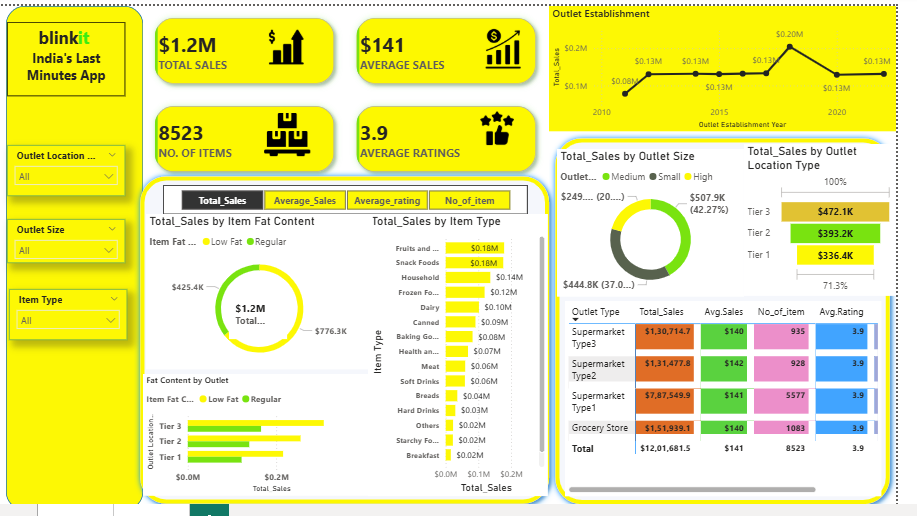

What the dashboard file says about the page in this screenshot:
{"tool":"powerbi","page":{"name":"Page 1","canvas":[1280,720],"ordinal":0},"visuals":[{"type":"shape","box":[8.3,0,195.9,720.5],"z":0},{"type":"textbox","box":[10.2,22.4,169.4,106.1],"z":1000},{"type":"cardVisual","fields":{"Data":["BlinkIT Grocery Data.Total_Sales","BlinkIT Grocery Data.Average_Sales","BlinkIT Grocery Data.No_of_item","BlinkIT Grocery Data.Average_rating"]},"box":[204.1,0,579.6,255.1],"z":2000},{"type":"shape","box":[191.8,234.7,602,485.7],"z":3000},{"type":"slicer","fields":{"Values":["Metrics.Metrics"]},"box":[232.4,255.7,521.3,41.5],"z":4000},{"type":"cardVisual","fields":{"Data":["BlinkIT Grocery Data.Total_Sales"]},"box":[314.3,420.4,114.3,57.1],"z":5000},{"type":"clusteredBarChart","title":"Fat Content by Outlet","fields":{"Y":["BlinkIT Grocery Data.Total_Sales"],"Series":["BlinkIT Grocery Data.Item Fat Content"],"Category":["BlinkIT Grocery Data.Outlet Location Type"]},"box":[204.2,526.3,327.1,174.3],"z":6000},{"type":"barChart","fields":{"Y":["BlinkIT Grocery Data.Total_Sales"],"Category":["BlinkIT Grocery Data.Item Type"]},"box":[526.3,297.2,257.3,403.4],"z":7000},{"type":"shape","box":[783.7,179.6,495.9,540.8],"z":8000},{"type":"lineChart","title":" Outlet Establishment ","fields":{"Category":["BlinkIT Grocery Data.Outlet Establishment Year"],"Y":["BlinkIT Grocery Data.Total_Sales"]},"box":[783.6,0,496.4,179.3],"z":9000},{"type":"donutChart","fields":{"Y":["BlinkIT Grocery Data.Total_Sales"],"Category":["BlinkIT Grocery Data.Item Fat Content"]},"box":[209.2,297.2,323.7,222.5],"z":10000},{"type":"donutChart","fields":{"Category":["BlinkIT Grocery Data.Outlet Size"],"Y":["BlinkIT Grocery Data.Total_Sales"]},"box":[795.2,204.2,267.3,210.8],"z":11000},{"type":"funnel","fields":{"Y":["BlinkIT Grocery Data.Total_Sales"],"Category":["BlinkIT Grocery Data.Outlet Location Type"]},"box":[1062.5,197.6,217.5,217.5],"z":12000},{"type":"pivotTable","fields":{"Values":["BlinkIT Grocery Data.Total_Sales","BlinkIT Grocery Data.Average_Sales","BlinkIT Grocery Data.No_of_item","BlinkIT Grocery Data.Average_rating","Sum(BlinkIT Grocery Data.Item Visibility)"],"Rows":["BlinkIT Grocery Data.Outlet Type"]},"box":[806.8,421.7,451.6,278.9],"z":13000},{"type":"slicer","fields":{"Values":["BlinkIT Grocery Data.Outlet Location Type"]},"box":[10.2,198,169.4,73.5],"z":14000},{"type":"slicer","fields":{"Values":["BlinkIT Grocery Data.Outlet Size"]},"box":[10.2,304.1,169.4,63.3],"z":15000},{"type":"slicer","fields":{"Values":["BlinkIT Grocery Data.Item Type"]},"box":[12.2,404.1,169.4,73.5],"z":16000},{"type":"cardVisual","fields":{"Data":["BlinkIT Grocery Data.Total_Sales"]},"box":[327.1,403.4,83,73],"z":17000},{"type":"image","box":[371.9,26.6,74.7,63.1],"z":17001},{"type":"image","box":[667.4,146.1,86.3,58.1],"z":17002},{"type":"image","box":[343.7,146.1,131.2,76.4],"z":17003},{"type":"image","box":[682.3,26.6,71.4,68.1],"z":17004}]}

Visuals, with their boxes in screenshot pixels (x1, y1, x2, y2), scaled from the page's 1280x720 canvas onto the 917x516 screenshot:
shape: 6, 0, 146, 515
textbox: 7, 16, 129, 92
cardVisual - BlinkIT Grocery Data.Total_Sales x BlinkIT Grocery Data.Average_Sales: 146, 0, 561, 183
shape: 137, 168, 569, 515
slicer - Metrics.Metrics: 166, 183, 540, 213
cardVisual - BlinkIT Grocery Data.Total_Sales: 225, 301, 307, 342
"Fat Content by Outlet" clusteredBarChart: 146, 377, 381, 502
barChart - BlinkIT Grocery Data.Total_Sales x BlinkIT Grocery Data.Item Type: 377, 213, 561, 502
shape: 561, 129, 916, 515
" Outlet Establishment " lineChart: 561, 0, 916, 128
donutChart - BlinkIT Grocery Data.Total_Sales x BlinkIT Grocery Data.Item Fat Content: 150, 213, 382, 372
donutChart - BlinkIT Grocery Data.Outlet Size x BlinkIT Grocery Data.Total_Sales: 570, 146, 761, 297
funnel - BlinkIT Grocery Data.Total_Sales x BlinkIT Grocery Data.Outlet Location Type: 761, 142, 916, 297
pivotTable - BlinkIT Grocery Data.Total_Sales x BlinkIT Grocery Data.Average_Sales: 578, 302, 902, 502
slicer - BlinkIT Grocery Data.Outlet Location Type: 7, 142, 129, 195
slicer - BlinkIT Grocery Data.Outlet Size: 7, 218, 129, 263
slicer - BlinkIT Grocery Data.Item Type: 9, 290, 130, 342
cardVisual - BlinkIT Grocery Data.Total_Sales: 234, 289, 294, 341
image: 266, 19, 320, 64
image: 478, 105, 540, 146
image: 246, 105, 340, 159
image: 489, 19, 540, 68
